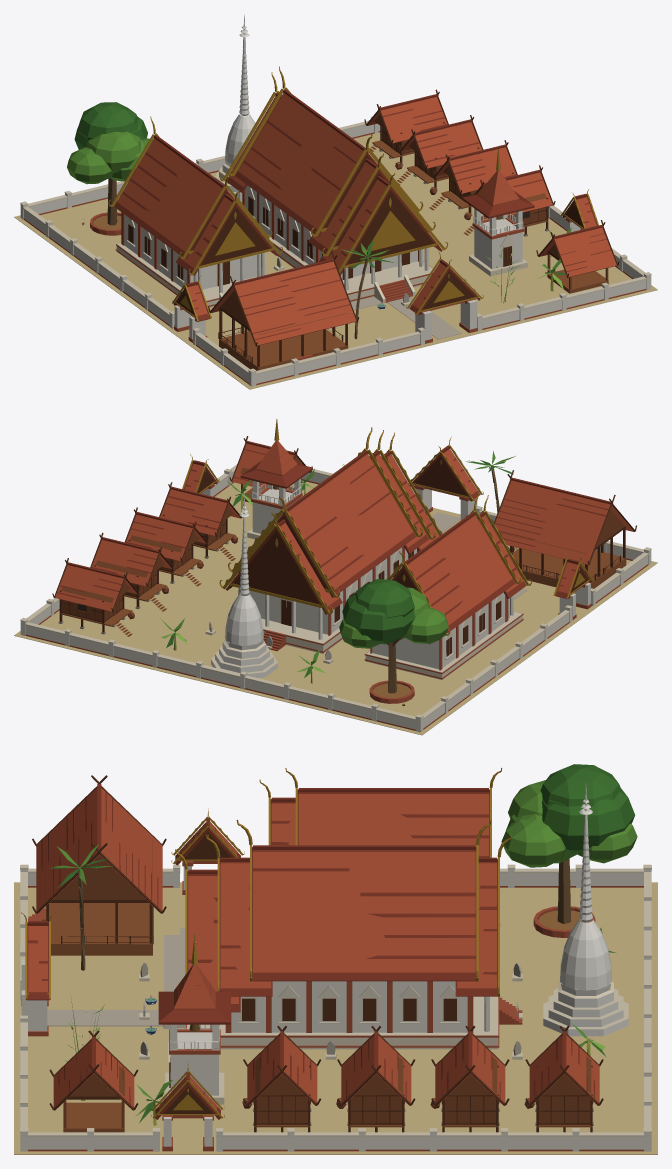
Rendered from temple_3.glb.
3 renders of one model, top to bottom at view 1: azimuth 30°, elevation 25°; view 2: azimuth 150°, elevation 25°; view 3: azimuth 270°, elevation 25°, orthographic. The views are drawn at different scales.
Visible parts, largest first — view 1: body; view 2: body; view 3: body.
Part boxes in pixels (x1,y1,x2,y2): body: (14, 14, 657, 389); body: (14, 419, 657, 735); body: (14, 764, 657, 1154).
Bounding box in the file's own units: 47.9 × 19.51 × 47.9.
